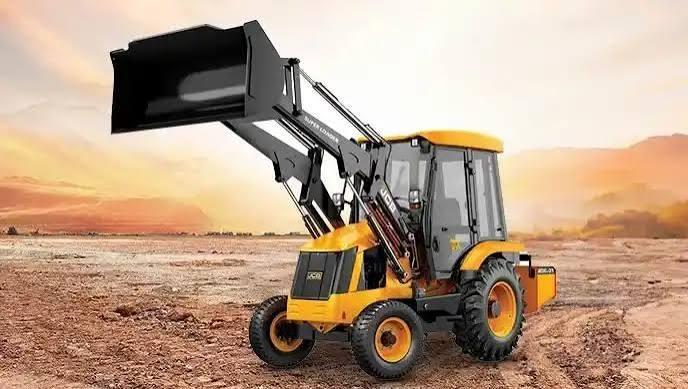machinery: (82, 19, 598, 382)
